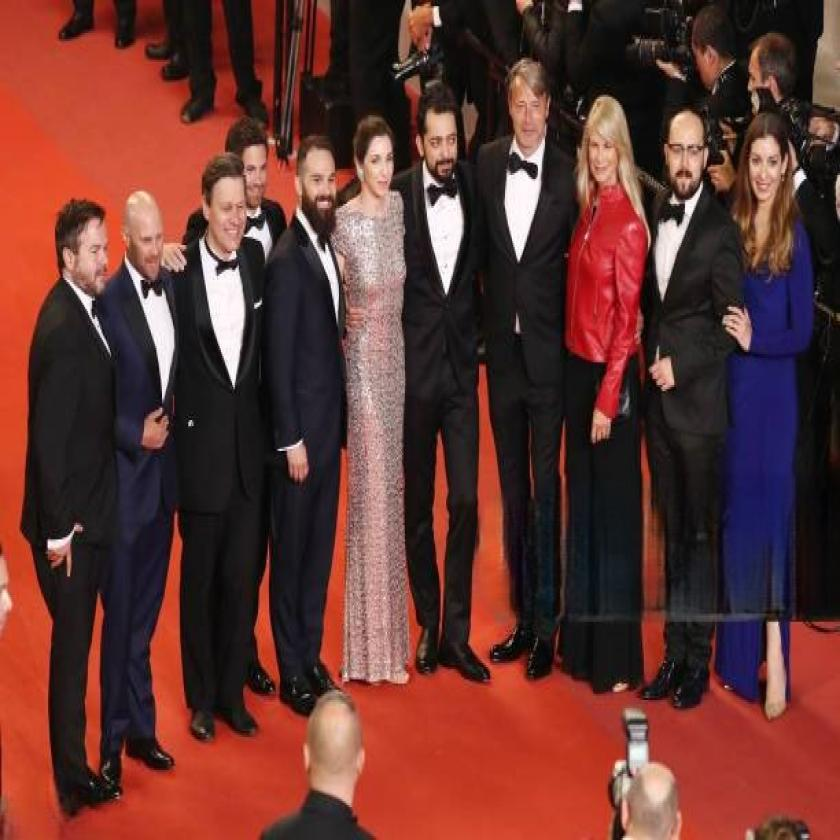Sin_casco: (49, 188, 116, 316), (288, 132, 347, 252), (123, 178, 176, 304), (577, 88, 629, 216), (411, 84, 464, 208), (200, 153, 256, 269), (504, 48, 554, 177), (659, 104, 710, 220), (744, 112, 796, 223), (221, 115, 273, 211), (350, 117, 399, 218)
